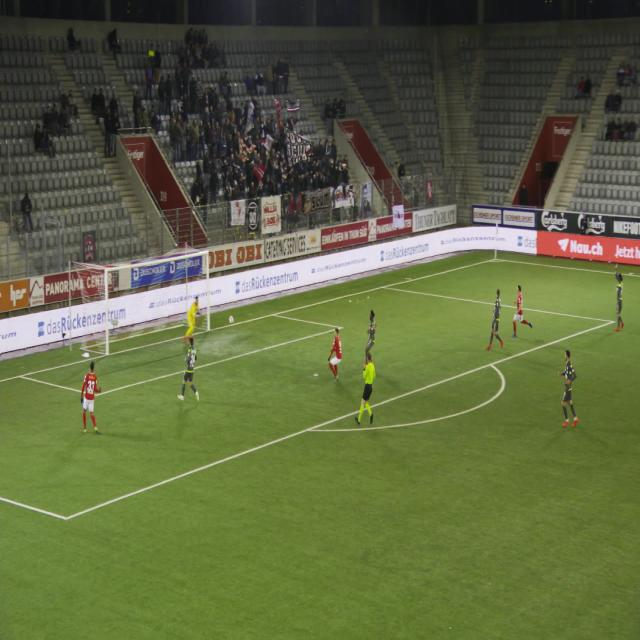Ball: (225, 309, 238, 329)
Player: (554, 343, 590, 434), (76, 354, 109, 439), (174, 333, 204, 413), (510, 273, 536, 347), (484, 281, 506, 358), (323, 322, 347, 388), (180, 292, 206, 345), (614, 260, 628, 339), (363, 306, 377, 364)
Referee: (352, 350, 383, 438)
